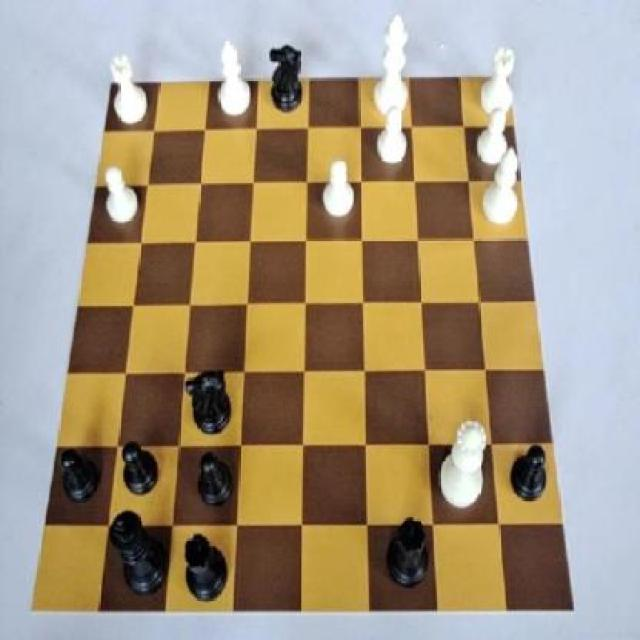black-bishop: (105, 509, 169, 609)
black-king: (180, 358, 237, 441), (268, 39, 309, 126)
black-knight: (506, 440, 556, 518), (117, 439, 177, 503), (191, 442, 239, 519), (57, 440, 103, 515)
black-queen: (177, 526, 232, 610), (382, 512, 430, 600)
black-rook: (480, 142, 528, 228), (212, 36, 256, 126)
white-bishop: (369, 14, 417, 121)
white-knight: (97, 163, 141, 235), (317, 154, 361, 222), (374, 104, 413, 174)
white-pawn: (437, 412, 494, 518)
white-queen: (472, 36, 525, 122), (106, 52, 151, 126)
